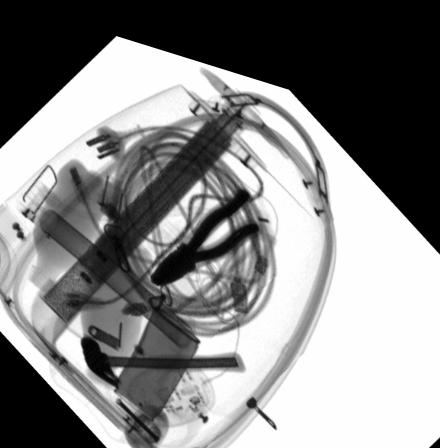Hammer: (81, 331, 248, 381)
Pliers: (148, 170, 264, 278)
